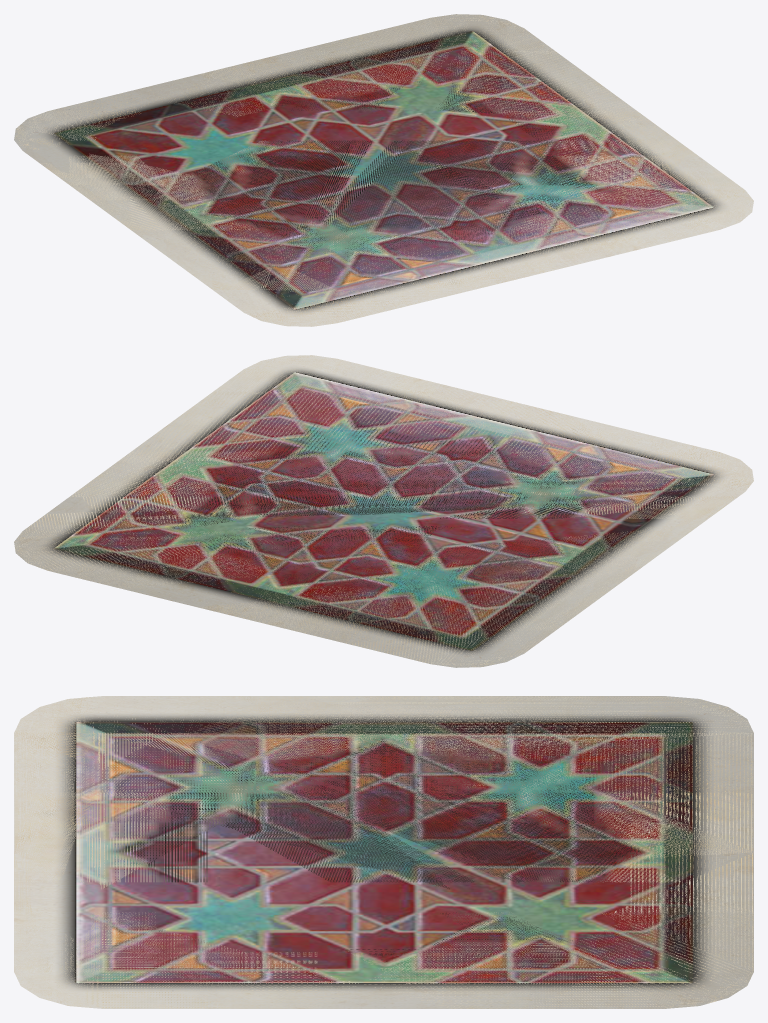
Rendered from card16.fbx.
The picture shows the model from 3 angles, top to bottom: view 1: azimuth 30°, elevation 25°; view 2: azimuth 150°, elevation 25°; view 3: azimuth 270°, elevation 25°; orthographic projection. The views are drawn at different scales.
Visible parts, largest first — view 1: polySurface1; view 2: polySurface1; view 3: polySurface1.
Part boxes in pixels (x1,y1,x2,y2): polySurface1: [14, 14, 753, 326]; polySurface1: [14, 355, 753, 667]; polySurface1: [14, 696, 753, 1008].
Size of the model in its own units: 1 by 0 by 1.
